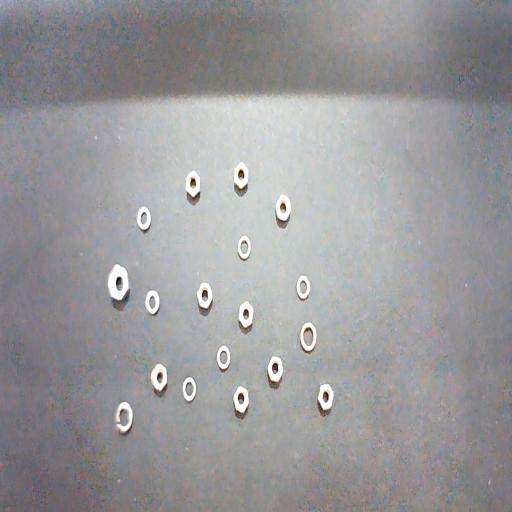nut: (108, 264, 129, 302), (150, 364, 167, 392), (185, 170, 201, 198), (233, 386, 249, 414), (196, 282, 212, 309), (267, 356, 283, 383), (275, 195, 291, 221), (234, 162, 248, 190), (318, 384, 333, 410), (239, 301, 253, 328)
washer: (114, 402, 132, 434), (300, 322, 316, 351), (145, 290, 160, 315), (296, 275, 310, 300), (182, 377, 196, 402), (237, 235, 251, 260), (137, 206, 151, 230), (217, 345, 230, 370)
